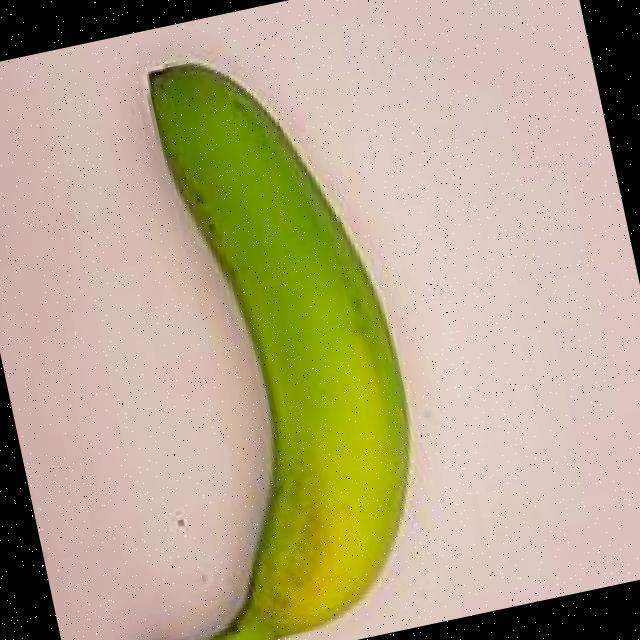Unripe: (0, 0, 491, 640)
